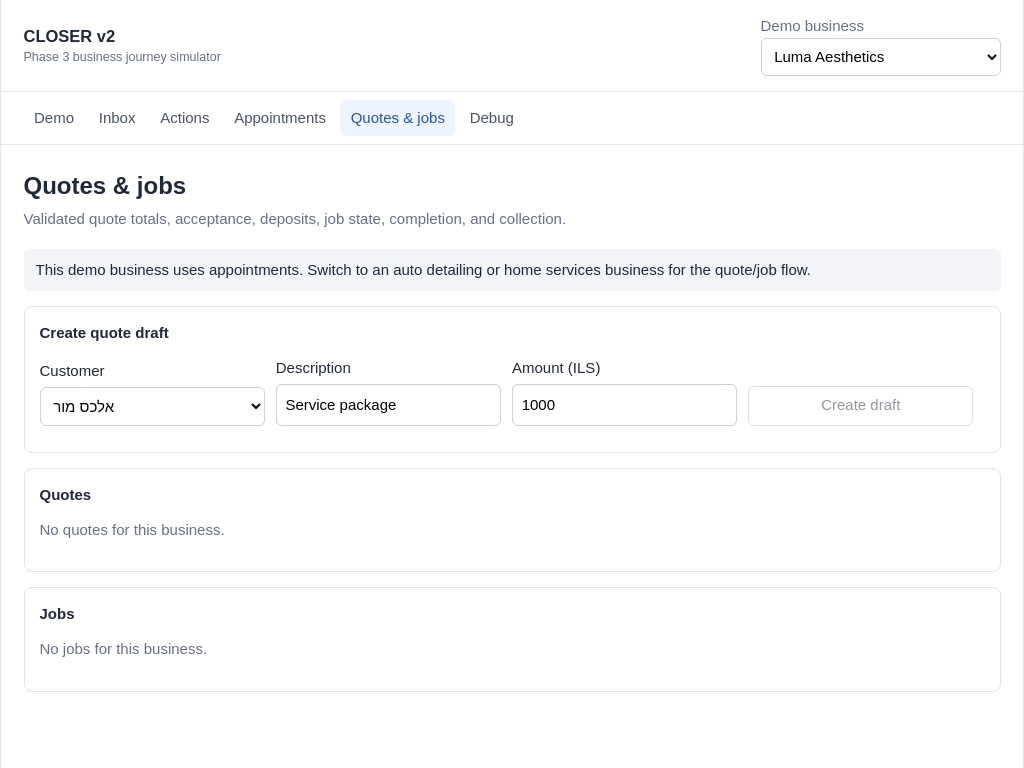
Test: production product experience › resets quote form ownership when the demo business changes
The width and height of the screenshot is (1024, 768).
Select "Northstar Auto Detail" in the dropdown labelled "Demo business": [880, 57] box [760,38,1000,76]
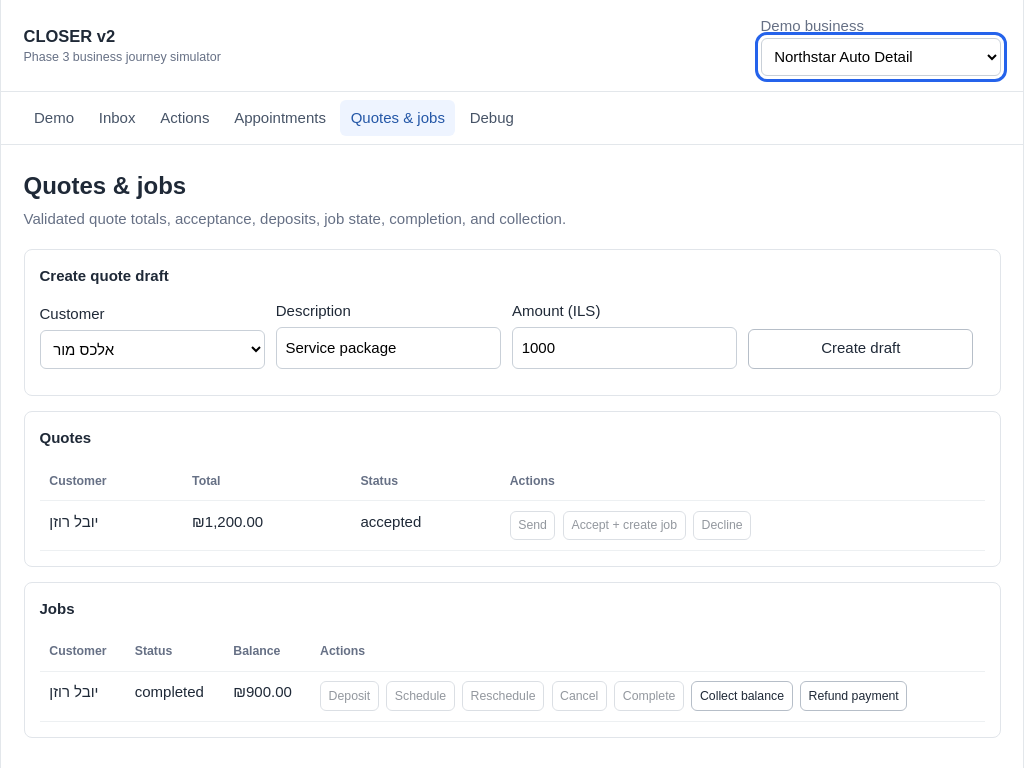
Click the button "Create draft": [861, 349] box [748,329,973,369]
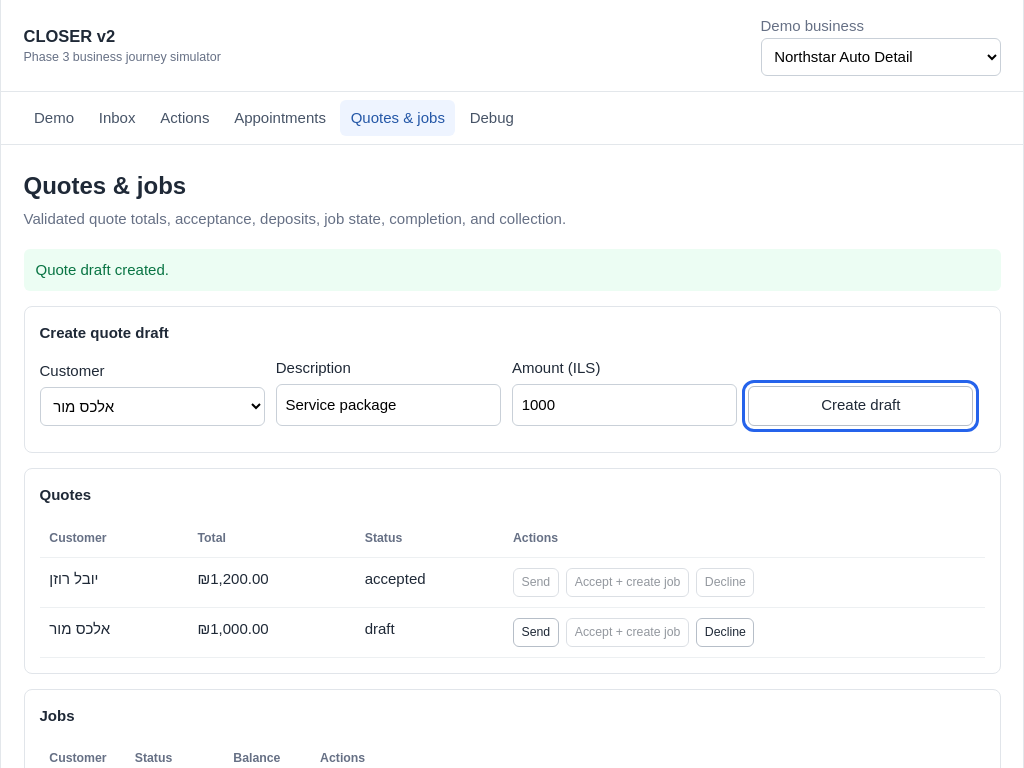
Expected: the text "Quote draft created." is shown, [24,249,1000,291]
